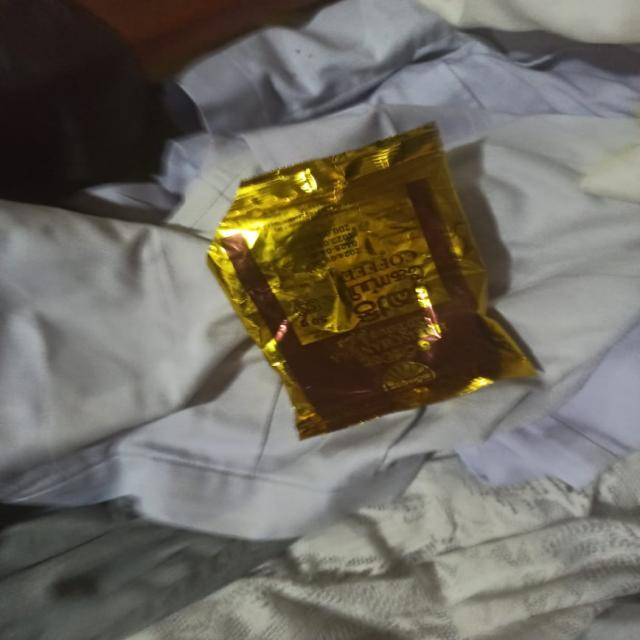Harischandra Coffee: (192, 168, 575, 425)
